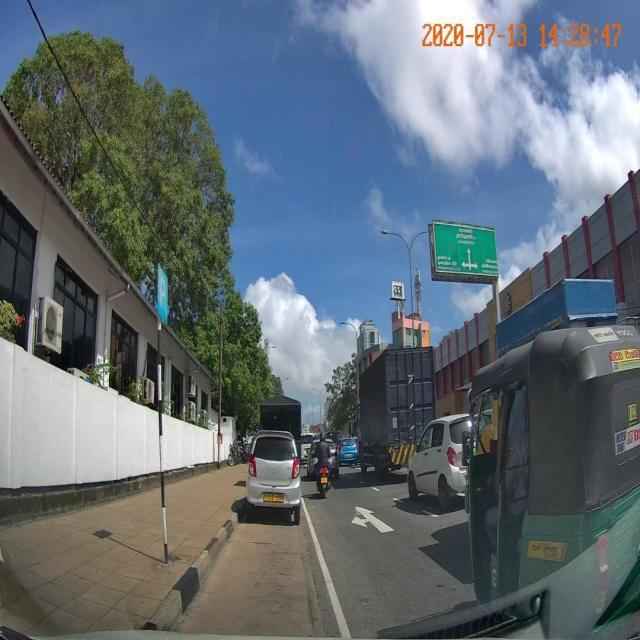Liniya 1: (301, 492, 352, 639), (421, 509, 440, 518), (392, 497, 404, 503)
Strelka vpered - vlevo: (350, 505, 396, 535)
